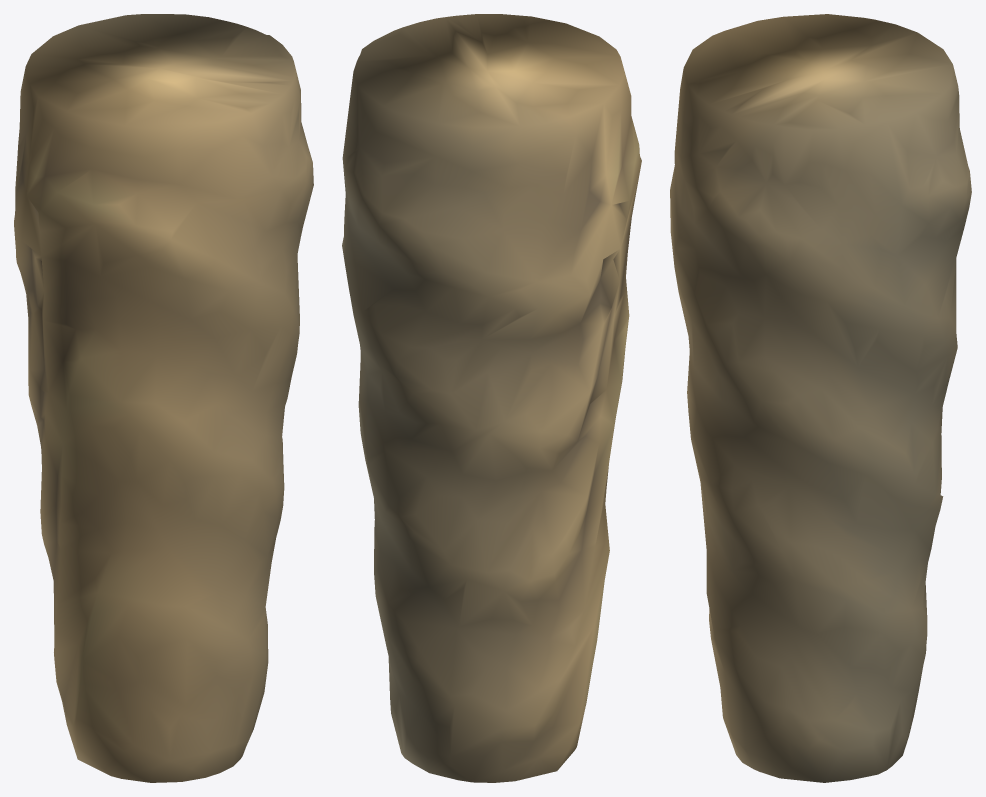
The model's file is hero_thigh_r.glb.
3 renders of one model, left to right at view 1: azimuth 30°, elevation 25°; view 2: azimuth 150°, elevation 25°; view 3: azimuth 270°, elevation 25°, orthographic.
Parts seen in each view (by area): view 1: geometry_0; view 2: geometry_0; view 3: geometry_0.
Boxes of the visible parts, <box> form: geometry_0: <box>14,14,313,782</box>; geometry_0: <box>342,14,641,782</box>; geometry_0: <box>670,14,971,782</box>.
Bounding box in the file's own units: 0.1892 × 0.4687 × 0.1896.
